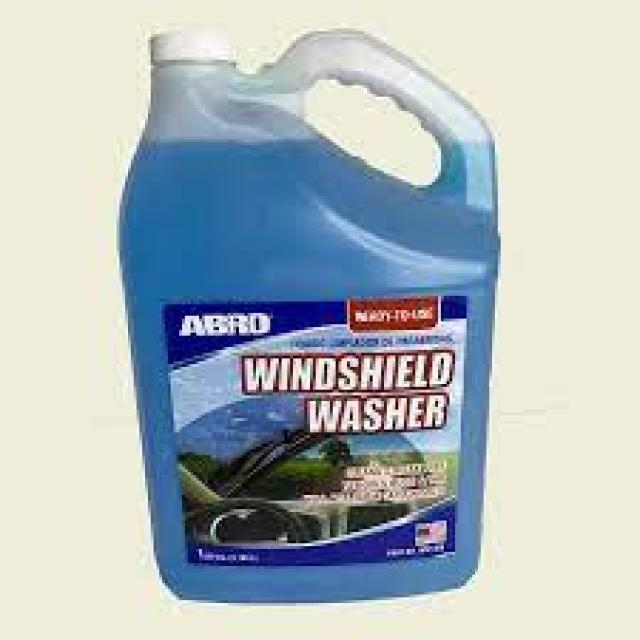winwinshield_washer: (114, 26, 504, 608)
